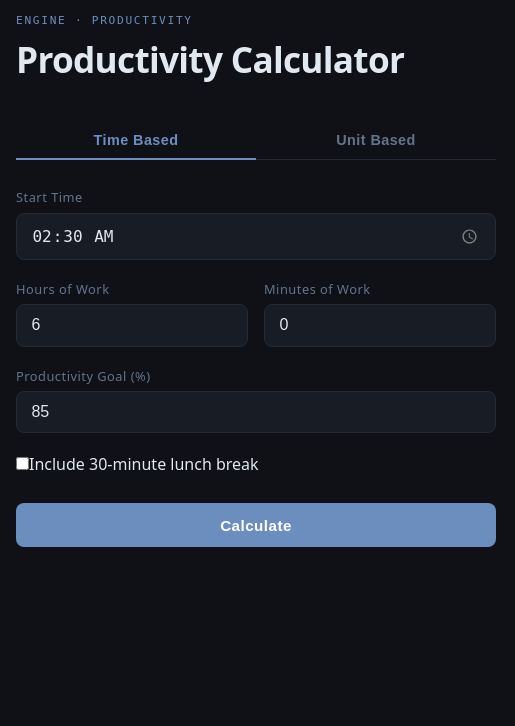
it: CalculatorPage › clears result when switching tabs
Click the button "Calculate" at {"x": 256, "y": 525}, box [16,503,496,548]
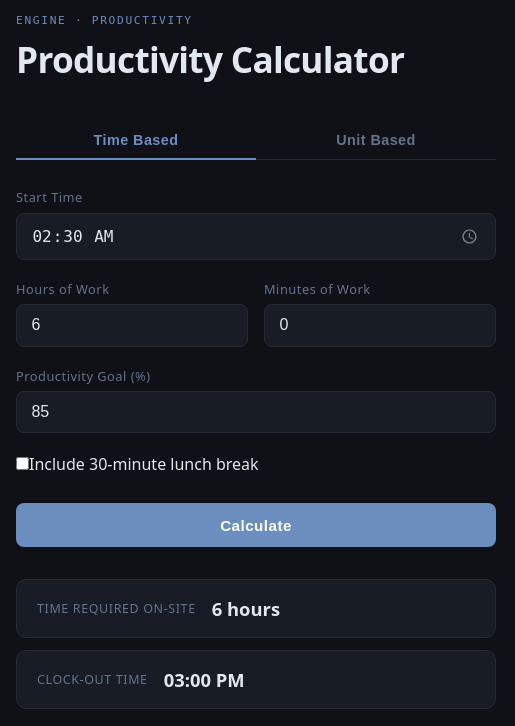
Expected: the text "6 hours" is shown, [212,596,280,622]
Click the tab "Unit Based" at {"x": 376, "y": 141}, box [256,121,496,160]
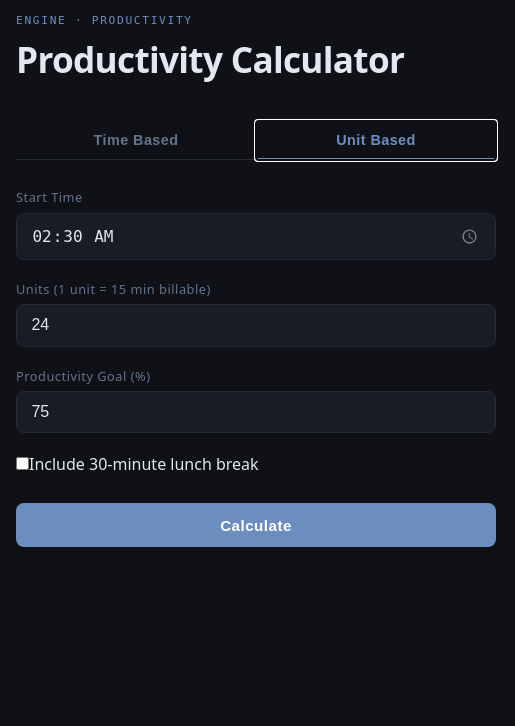
Expected: the text "6 hours" is gone
